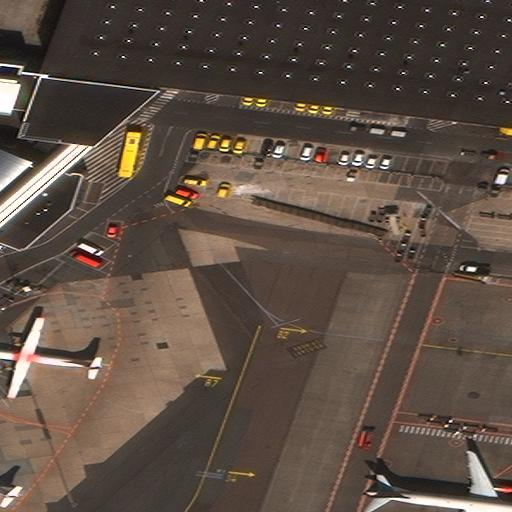Medium Civil Transport: (363, 450, 512, 512), (0, 317, 105, 398)
